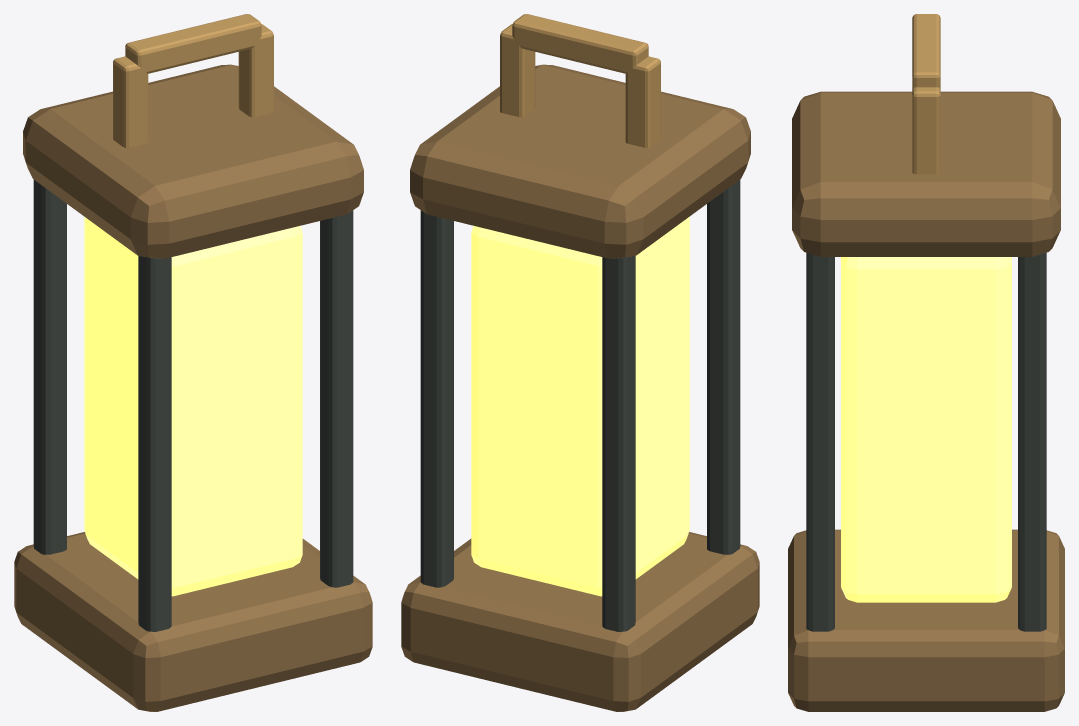
The model's file is lantern.glb.
3 views of the same model, side by side, from view 1: azimuth 30°, elevation 25°; view 2: azimuth 150°, elevation 25°; view 3: azimuth 270°, elevation 25° (orthographic).
Parts seen in each view (by area): view 1: lantern; view 2: lantern; view 3: lantern.
Boxes of the visible parts, x1,y1,x2,y2 form: lantern: (14, 14, 372, 711); lantern: (401, 14, 759, 711); lantern: (788, 14, 1064, 711).
Bounding box in the file's own units: 0.34 × 0.8375 × 0.34.
